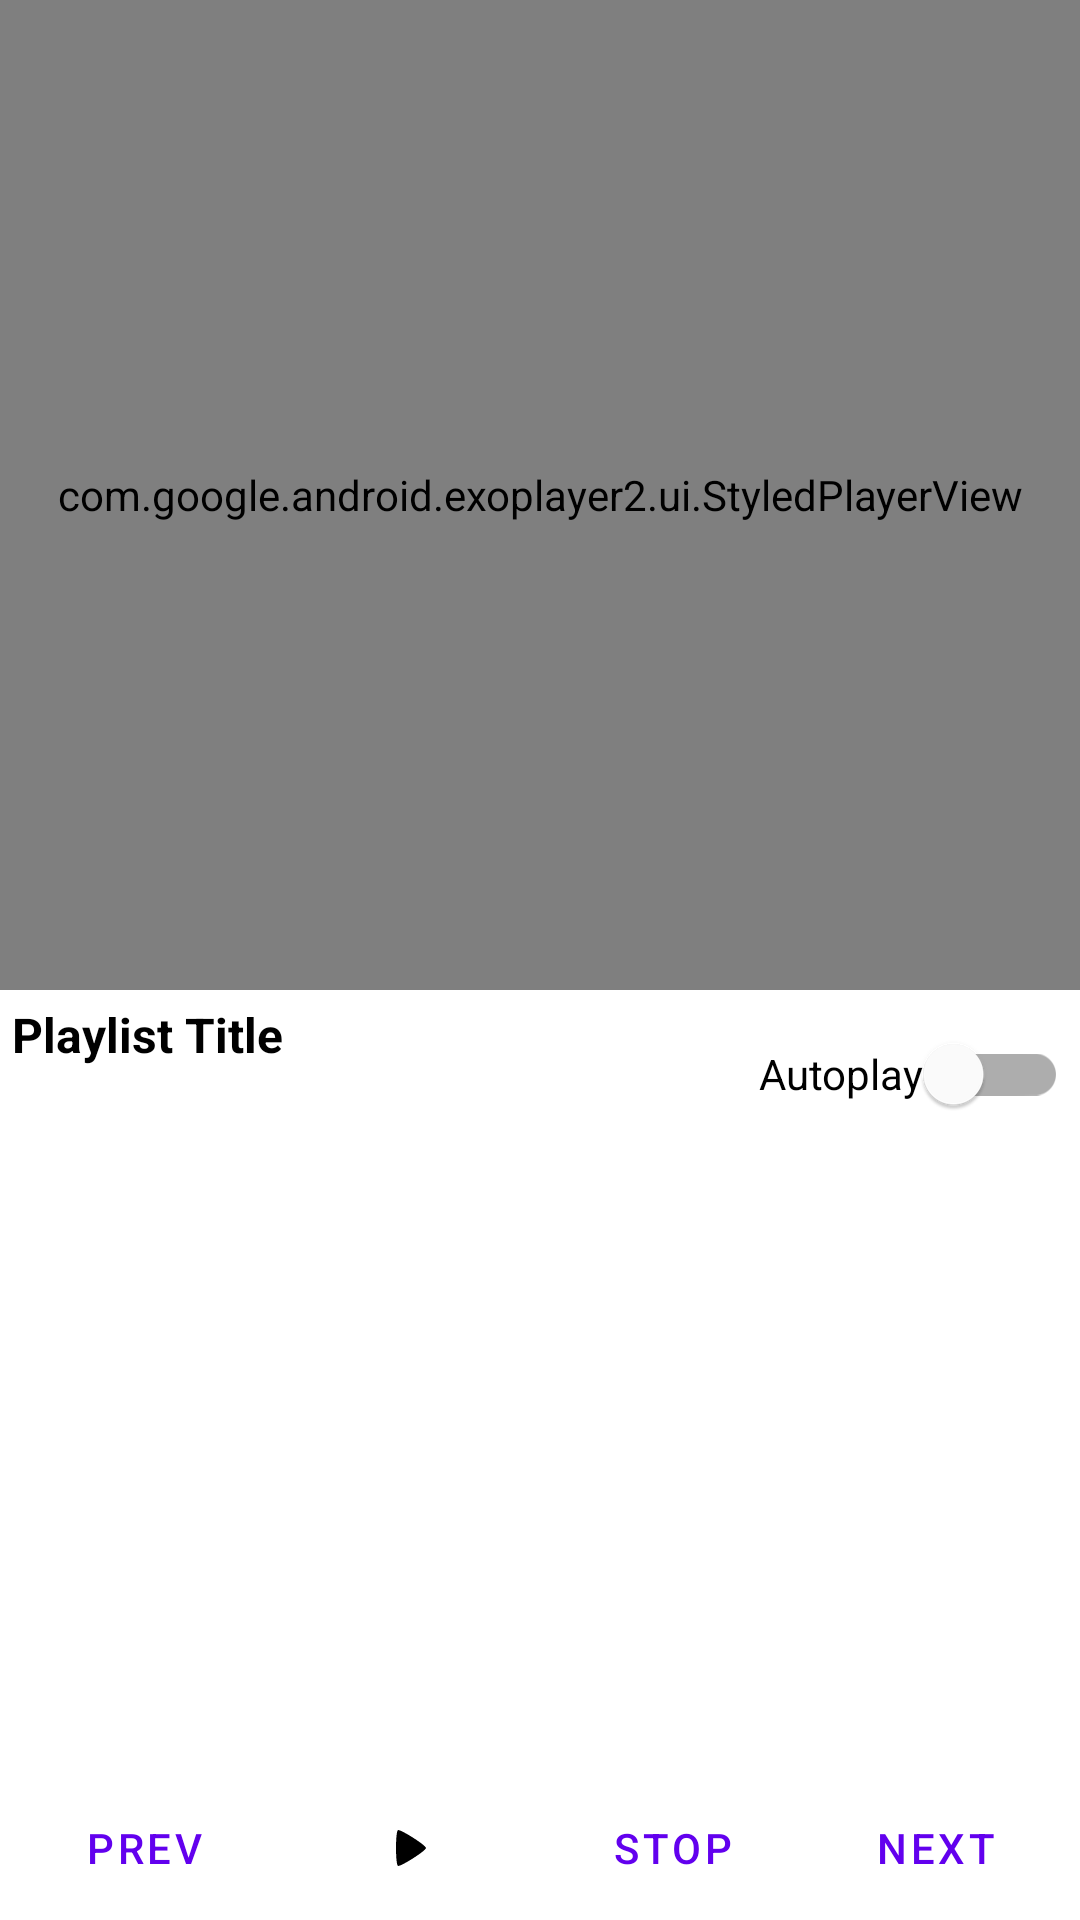

Point at icon controls on the screen. Image size 1080×1920, points as (x,y).
play pause: (411,1848)
